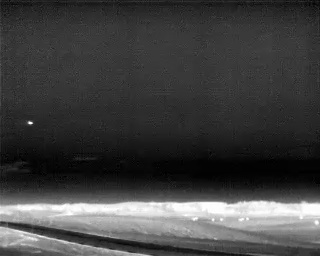BIRD: (25, 118, 35, 128)
